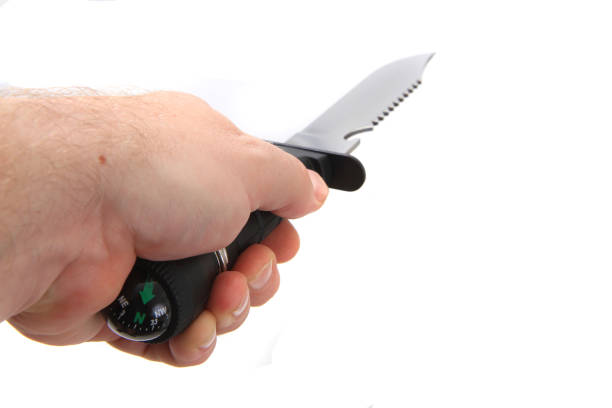knife: (100, 45, 440, 346)
